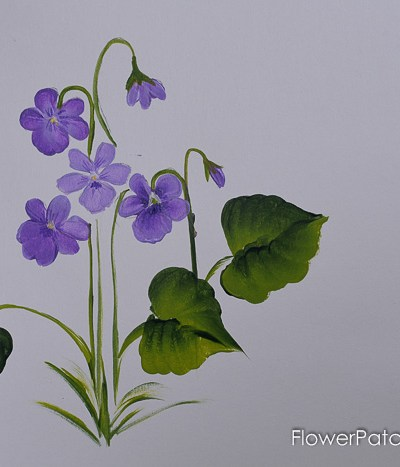violet: (12, 200, 93, 269), (120, 168, 196, 241), (16, 83, 91, 153), (64, 145, 132, 212)
